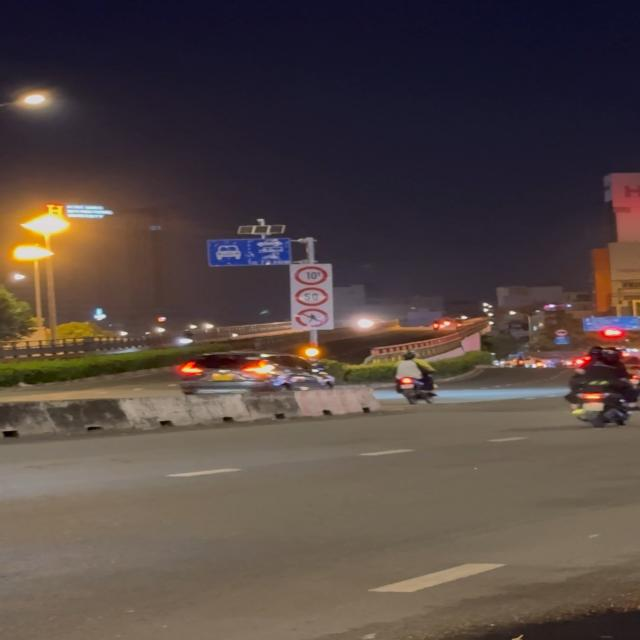Bien bao cam nguoi di bo: (293, 307, 333, 330)
Bien bao toc do toi da cho phep: (294, 287, 330, 307)
